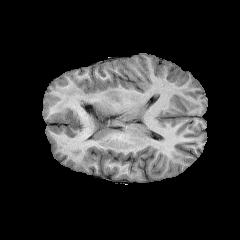glioma: (43, 90, 123, 135)
